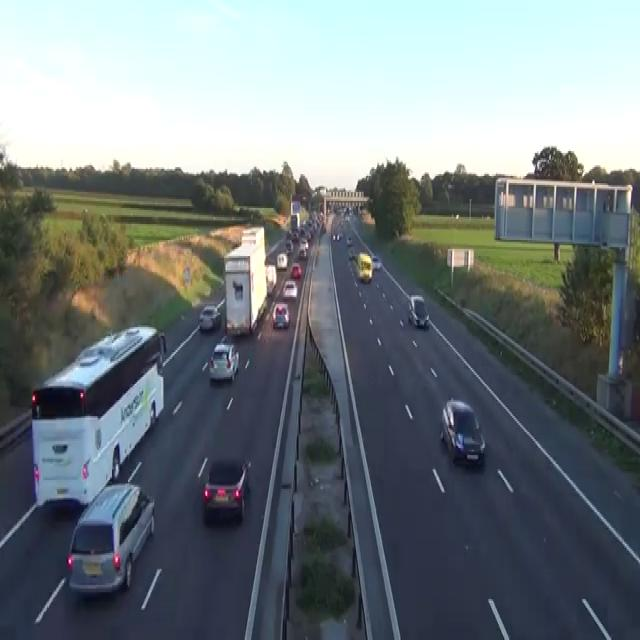Car: (66, 482, 155, 597), (203, 455, 251, 521), (440, 398, 485, 466), (208, 342, 239, 382), (408, 293, 429, 327), (198, 304, 221, 331), (272, 302, 290, 329), (282, 279, 297, 299), (276, 252, 287, 268), (332, 224, 343, 240), (290, 263, 301, 277), (371, 254, 381, 268), (298, 244, 307, 258), (290, 229, 298, 242), (285, 240, 292, 252), (347, 249, 355, 259), (300, 237, 308, 247), (335, 231, 342, 240), (346, 235, 352, 245), (286, 229, 291, 240), (344, 213, 349, 220), (331, 233, 336, 240)
Truck: (30, 324, 167, 508), (223, 226, 267, 336), (355, 250, 373, 282), (265, 263, 276, 295)
